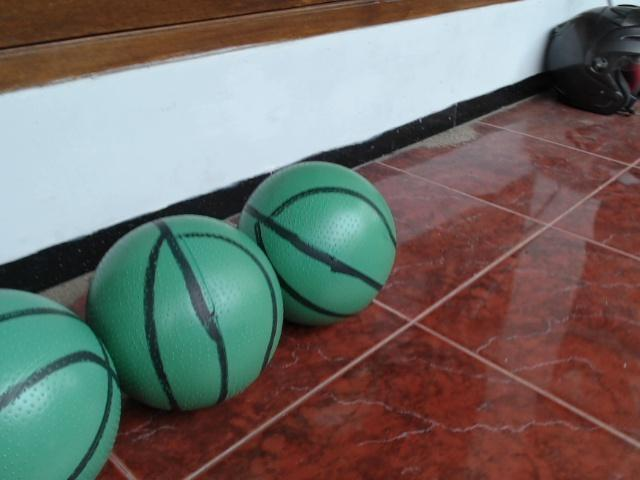Sports-Ball: (84, 213, 286, 413), (236, 145, 400, 329), (0, 284, 127, 480)
